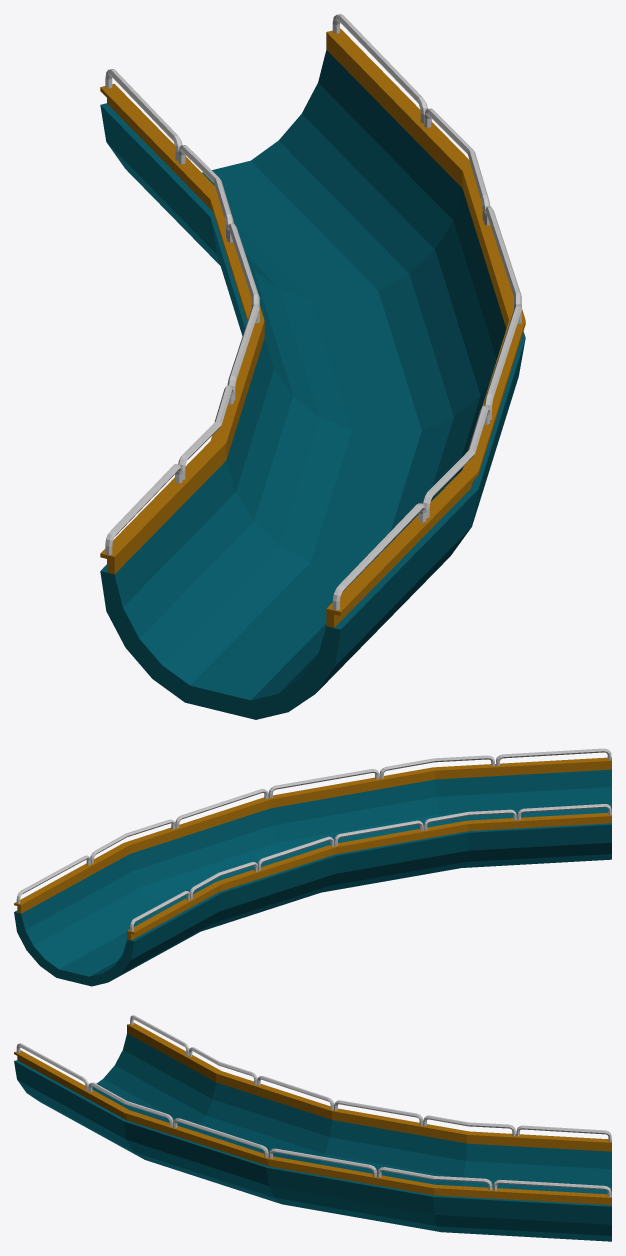
Rendered from halfpipe-curveRight-60_l.FBX.
3 views of the same model, one above another, from view 1: azimuth 30°, elevation 25°; view 2: azimuth 150°, elevation 25°; view 3: azimuth 270°, elevation 25° (orthographic). The views are drawn at different scales.
Parts seen in each view (by area): view 1: halfpipe-curveRight-60_l, wall_l, wall_r; view 2: halfpipe-curveRight-60_l, wall_l, wall_r; view 3: halfpipe-curveRight-60_l, wall_l, wall_r.
Part boxes in pixels (left/top/right/bottom): halfpipe-curveRight-60_l: left=100, top=50, right=525, bottom=719; wall_l: left=326, top=14, right=525, bottom=627; wall_r: left=100, top=69, right=264, bottom=574; halfpipe-curveRight-60_l: left=14, top=769, right=611, bottom=986; wall_l: left=14, top=748, right=611, bottom=913; wall_r: left=127, top=804, right=611, bottom=940; halfpipe-curveRight-60_l: left=14, top=1033, right=611, bottom=1241; wall_l: left=14, top=1043, right=611, bottom=1205; wall_r: left=127, top=1015, right=611, bottom=1151.
Size of what is drawn, in the model's own units: 383 by 552 by 75.73.
